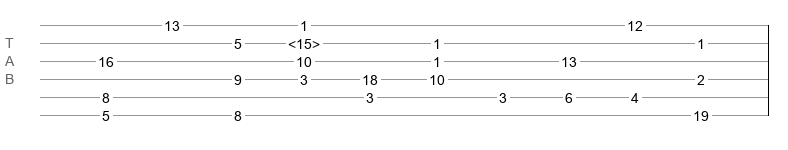1: (300, 18, 308, 28), (433, 36, 441, 46), (433, 54, 441, 64), (697, 36, 705, 46)
10: (296, 54, 312, 64), (429, 72, 445, 82)
12: (627, 18, 643, 28)
13: (164, 18, 180, 28), (561, 54, 577, 64)
16: (98, 54, 114, 64)
18: (362, 72, 378, 82)
19: (693, 108, 709, 118)
2: (697, 72, 705, 82)
3: (300, 72, 308, 82), (366, 90, 374, 100), (499, 90, 507, 100)
4: (631, 90, 639, 100)
5: (102, 108, 110, 118), (234, 36, 242, 46)
6: (565, 90, 573, 100)
8: (102, 90, 110, 100), (234, 108, 242, 118)
9: (234, 72, 242, 82)
harmonic: (288, 36, 320, 46)
